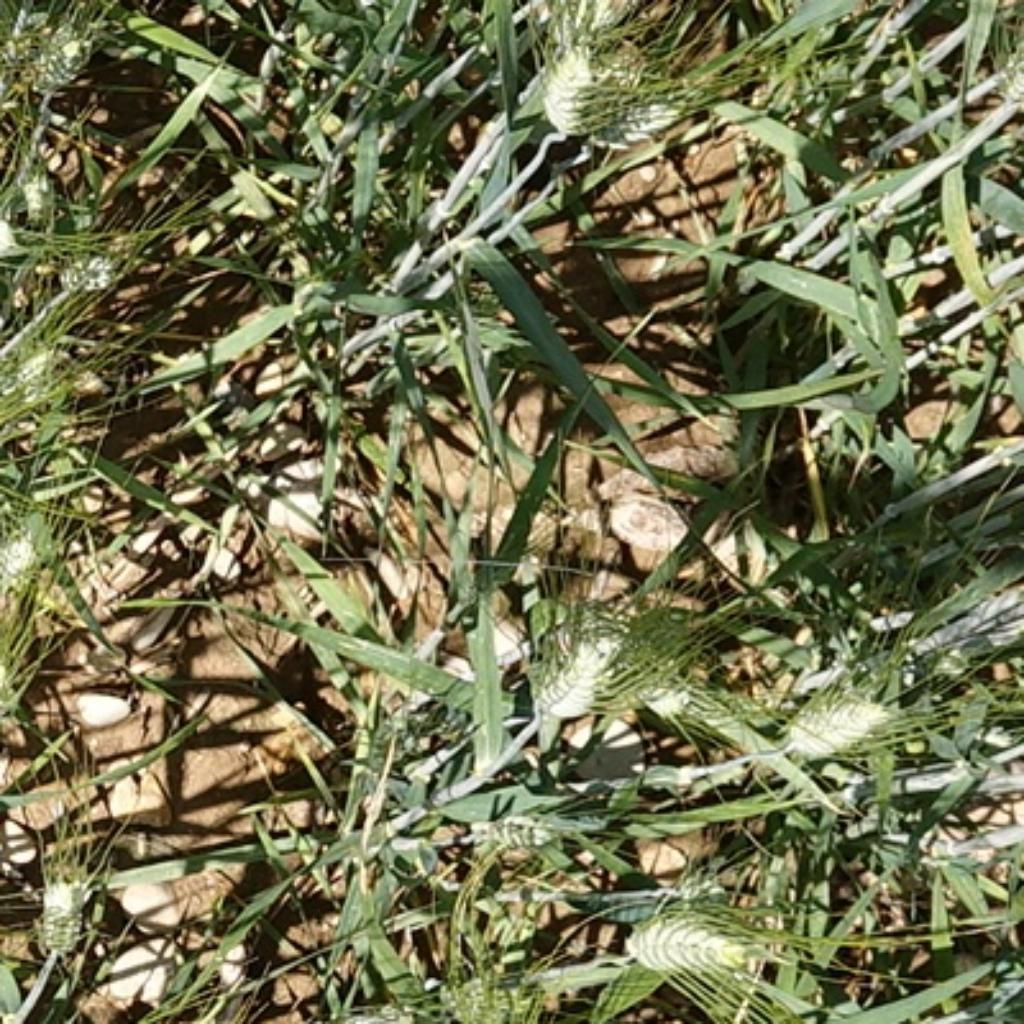0-0: (517, 593, 650, 727), (619, 902, 778, 989), (772, 685, 900, 770), (0, 314, 79, 432), (542, 40, 637, 138), (437, 953, 552, 1024), (0, 501, 71, 606), (26, 863, 98, 965), (527, 2, 642, 64), (623, 661, 714, 728), (468, 808, 567, 861), (48, 232, 128, 294), (10, 138, 61, 227), (51, 235, 125, 294), (3, 5, 57, 69), (31, 38, 90, 95), (993, 15, 1024, 120)
